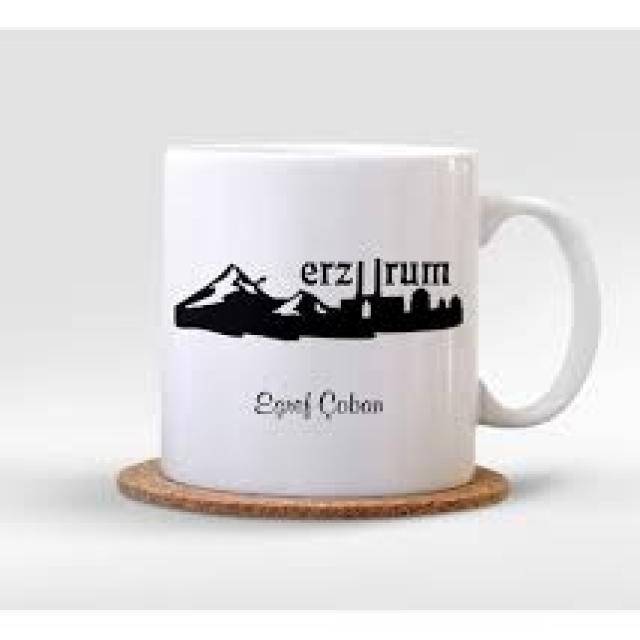taza: (160, 142, 604, 496)
